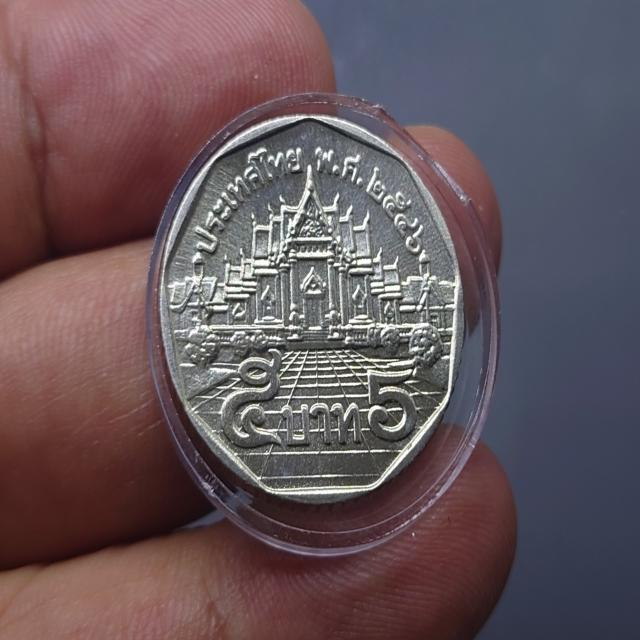5 Bath: (156, 108, 468, 514)
